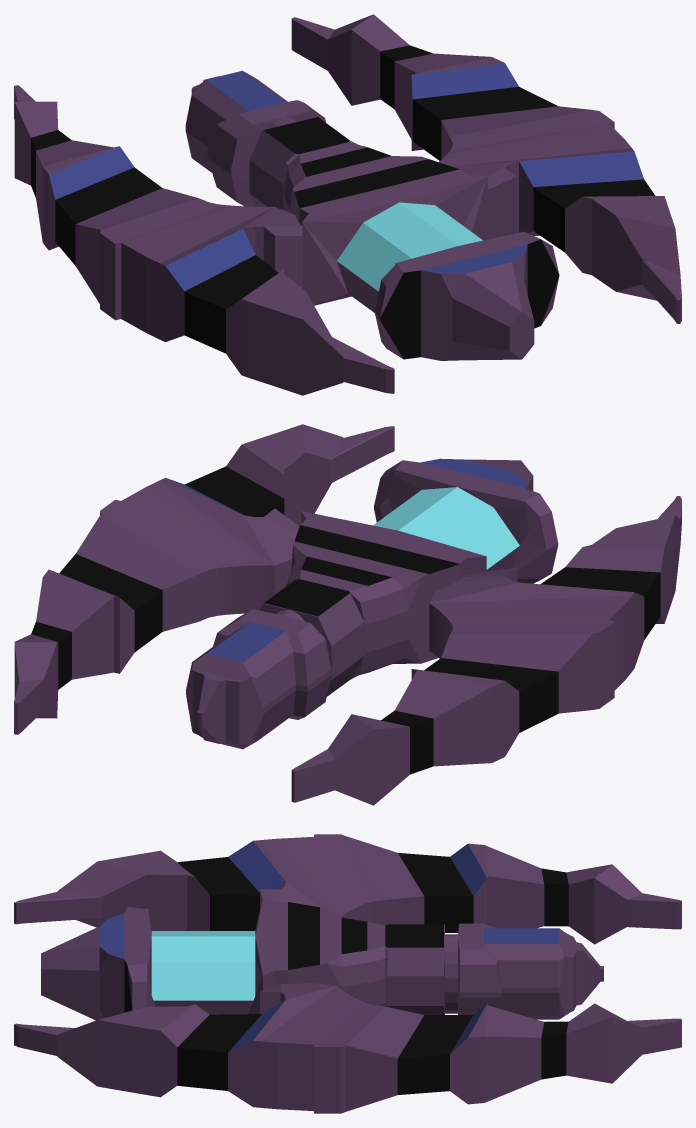
File: ship_4.fbx
3 views of the same model, one above another, from view 1: azimuth 30°, elevation 25°; view 2: azimuth 150°, elevation 25°; view 3: azimuth 270°, elevation 25° (orthographic). The views are drawn at different scales.
Visible parts, largest first — view 1: Ship_4; view 2: Ship_4; view 3: Ship_4.
Part boxes in pixels (left/top/right/bottom): Ship_4: left=14, top=14, right=681, bottom=395; Ship_4: left=14, top=424, right=681, bottom=805; Ship_4: left=14, top=834, right=681, bottom=1113.
Bounding box in the file's own units: 362 × 60.18 × 481.
